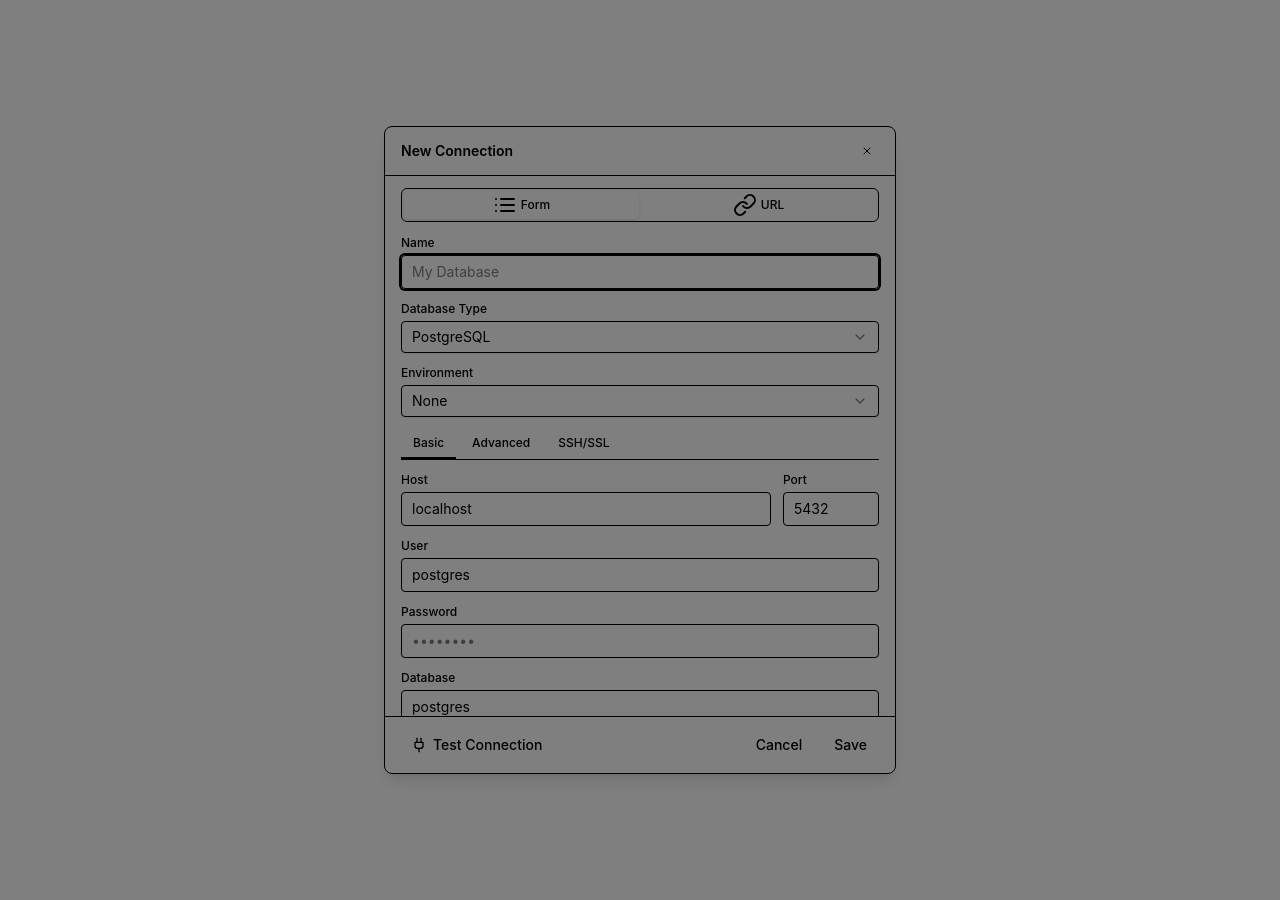
ConnectionDialog validation-state exposure (#1135) › moves focus to the first invalid field (Host) and clears the prior flag
The width and height of the screenshot is (1280, 900).
Type "Valid" into the field labelled "Name" at (640, 272), box top-left (401, 255), bottom-right (879, 289)
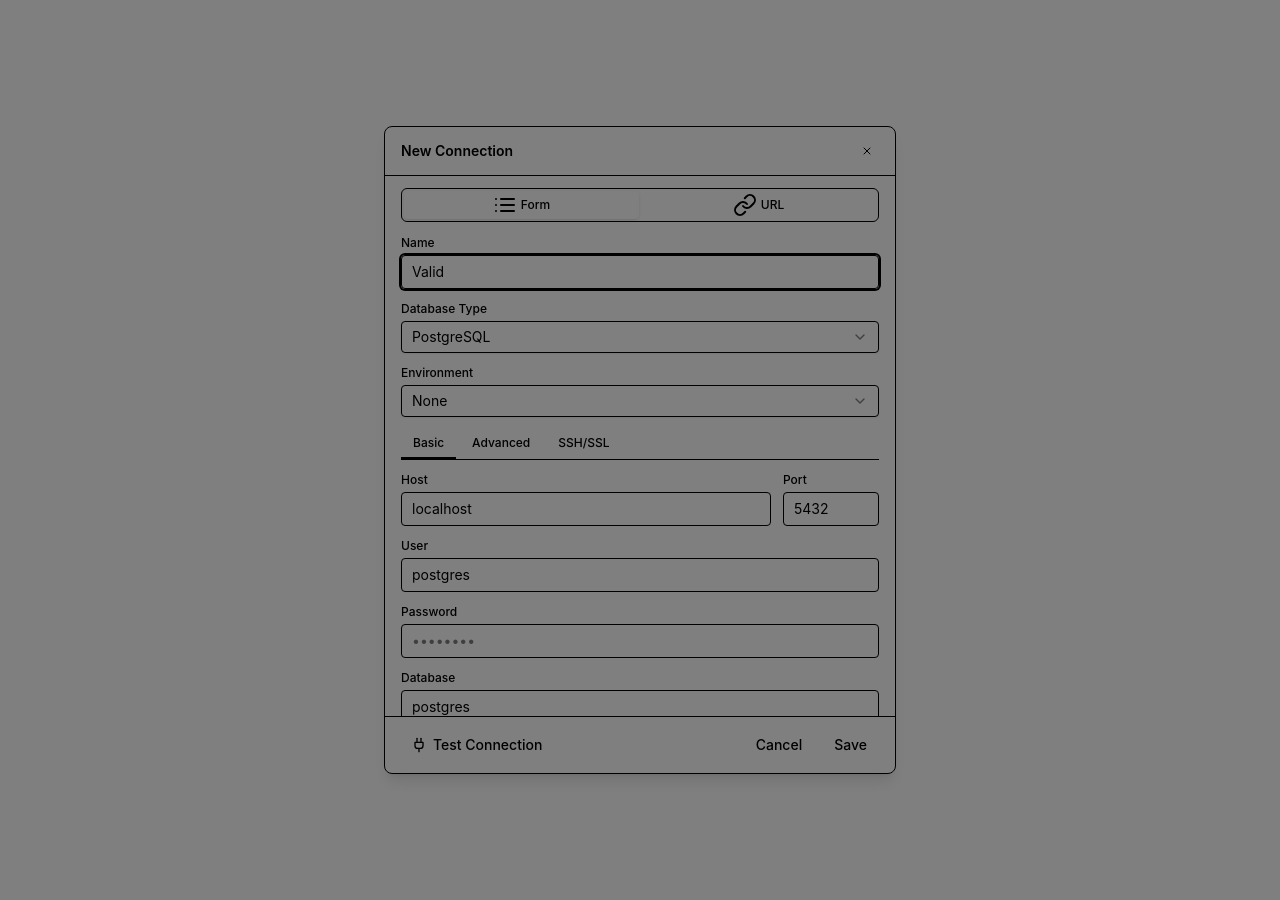
Clear the field labelled "Host" at (586, 509), box top-left (401, 492), bottom-right (771, 526)
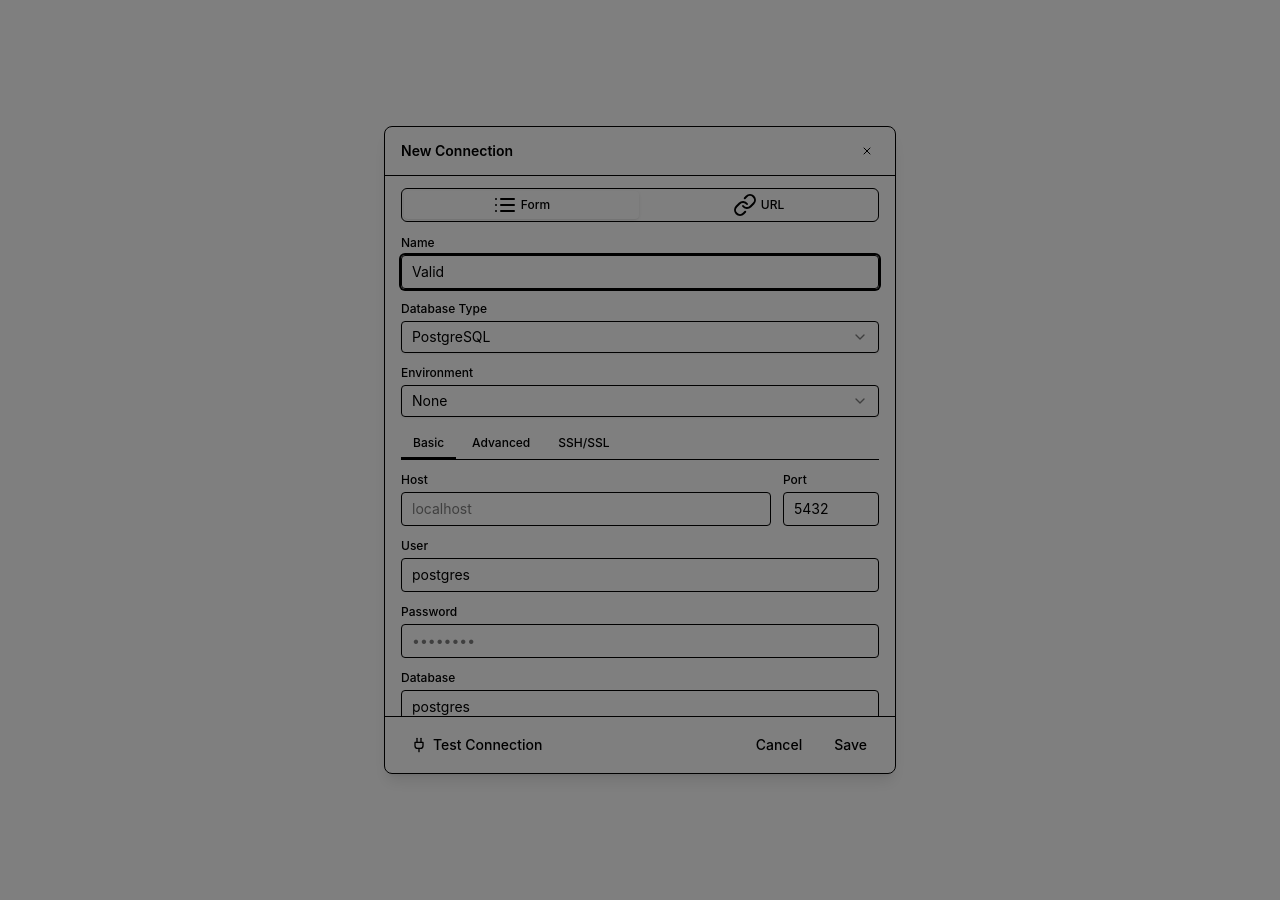
Click the button "Save" at (851, 745), box top-left (822, 729), bottom-right (879, 761)
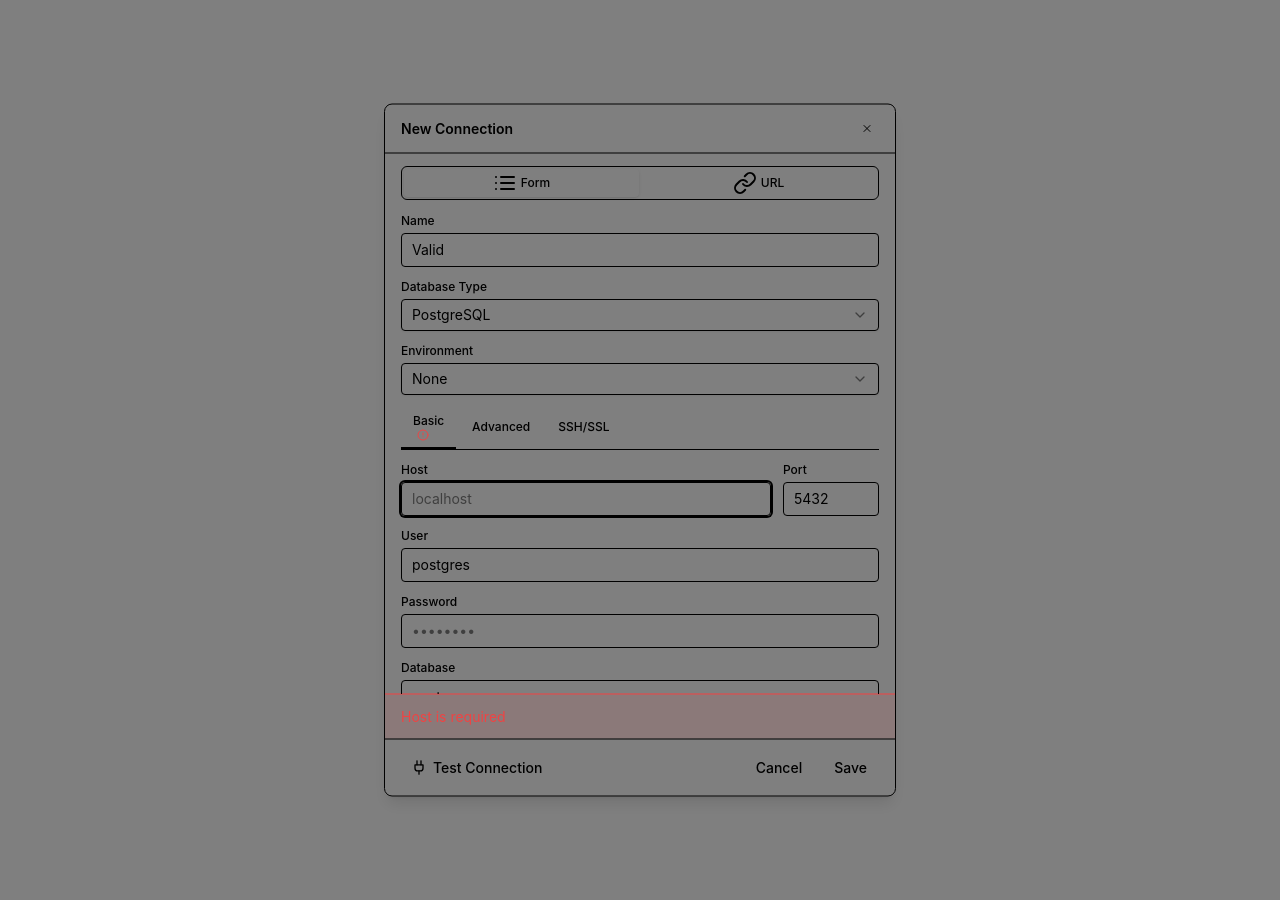
Expected: the message reads "Host is required", top-left (401, 708), bottom-right (506, 724)
